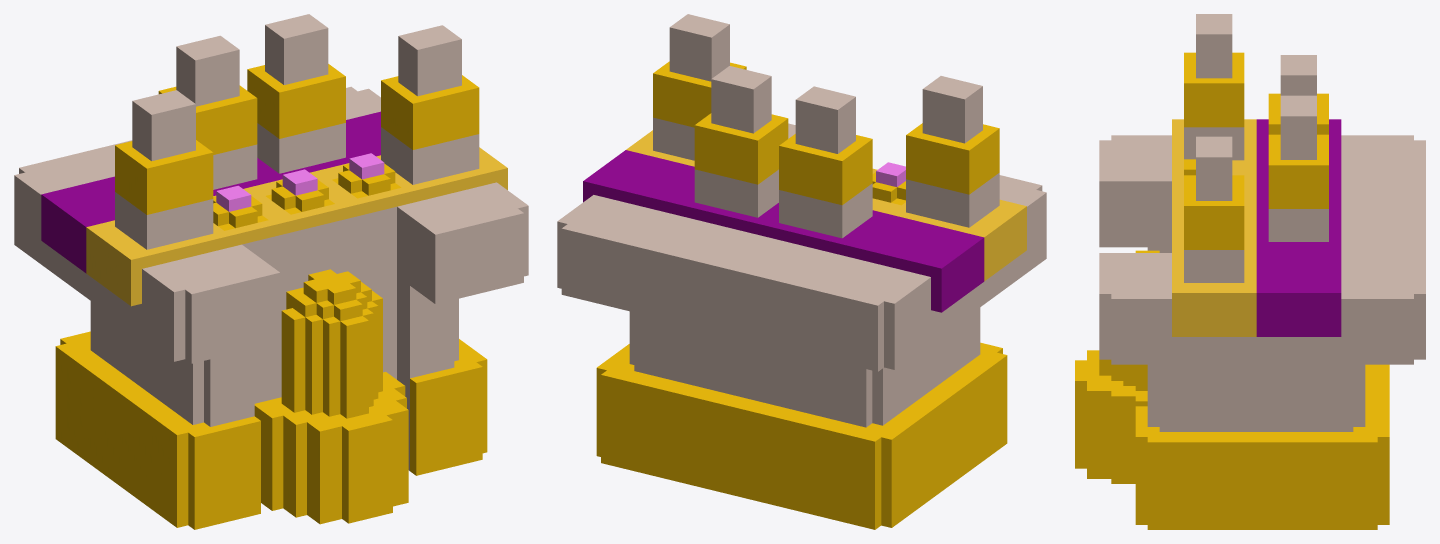
3 renders of one model, left to right at view 1: azimuth 30°, elevation 25°; view 2: azimuth 150°, elevation 25°; view 3: azimuth 270°, elevation 25°, orthographic. The views are drawn at different scales.
Visible parts, largest first — view 1: L017, L018, L016, L015, L6; view 2: L017, L018, L015, L016, L6; view 3: L017, L018, L015, L016.
Part boxes in pixels (x1,y1,x2,y2): L017: [14, 14, 528, 470]; L018: [55, 64, 487, 529]; L016: [86, 147, 507, 306]; L015: [41, 111, 380, 273]; L6: [216, 153, 384, 211]; L017: [557, 14, 1046, 427]; L018: [596, 61, 1007, 529]; L015: [583, 150, 984, 312]; L016: [626, 130, 1026, 281]; L6: [876, 162, 905, 186]; L017: [1099, 14, 1425, 431]; L018: [1075, 52, 1389, 529]; L015: [1256, 119, 1341, 336]; L016: [1172, 119, 1256, 336].
Size of the model in its own units: 340 by 340 by 290.
5 materials, 5 textured.
